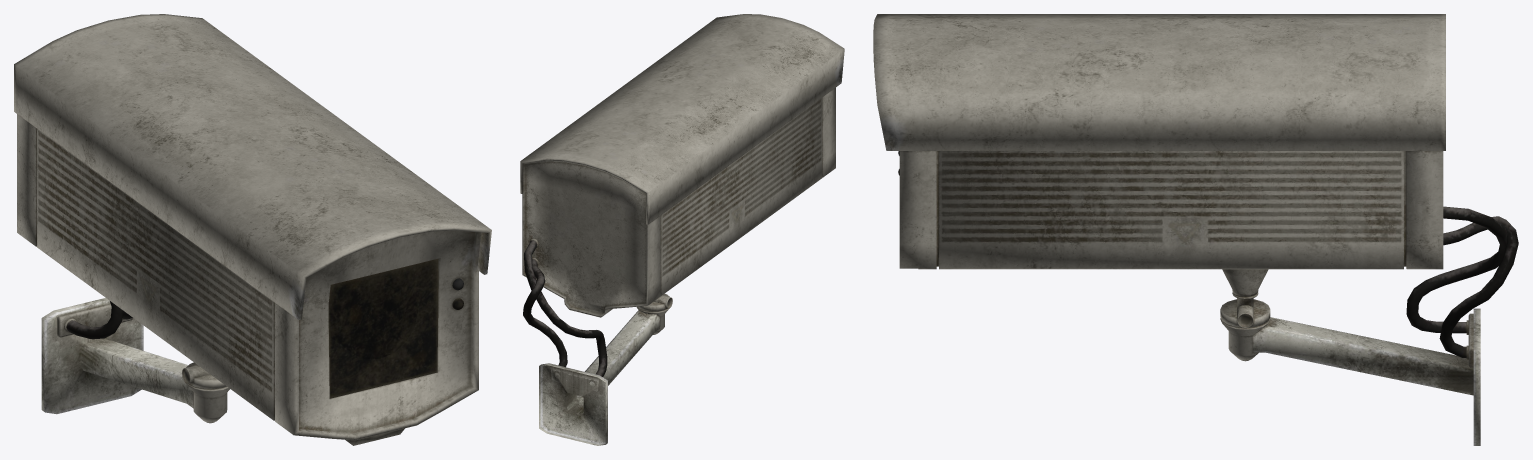
3 views of the same model, side by side, from view 1: azimuth 30°, elevation 25°; view 2: azimuth 150°, elevation 25°; view 3: azimuth 270°, elevation 25° (orthographic). The views are drawn at different scales.
Visible parts, largest first — view 1: CCTV_Camera_low (×2); view 2: CCTV_Camera_low (×2); view 3: CCTV_Camera_low (×2).
Part boxes in pixels (x1,y1,x2,y2): CCTV_Camera_low (×2): (14, 14, 491, 445); CCTV_Camera_low (×2): (520, 14, 844, 445); CCTV_Camera_low (×2): (873, 14, 1518, 445).
Bounding box in the file's own units: 0.663 × 1.33 × 2.
2 materials, 2 textured.
